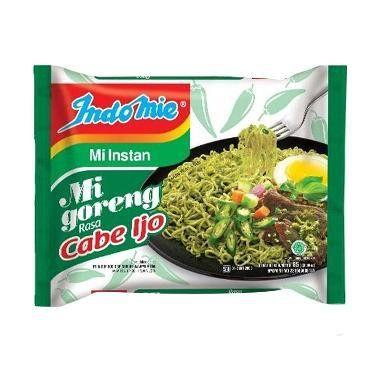Plastik: (22, 56, 354, 312)
